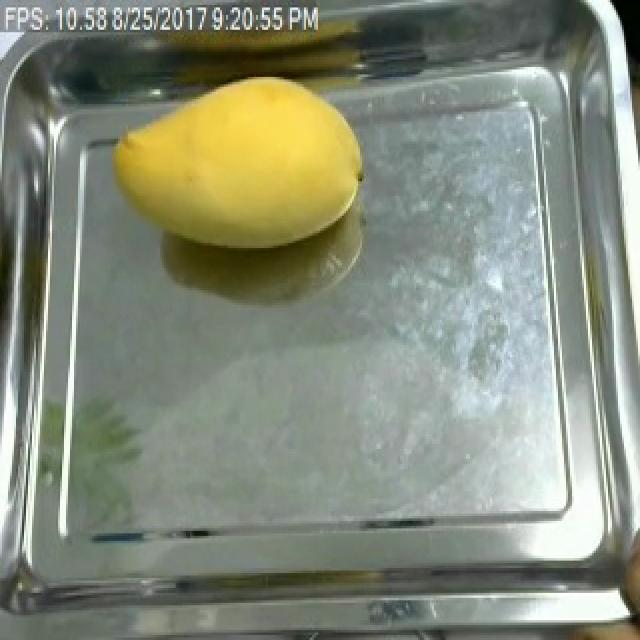fruit: (98, 64, 376, 266)
